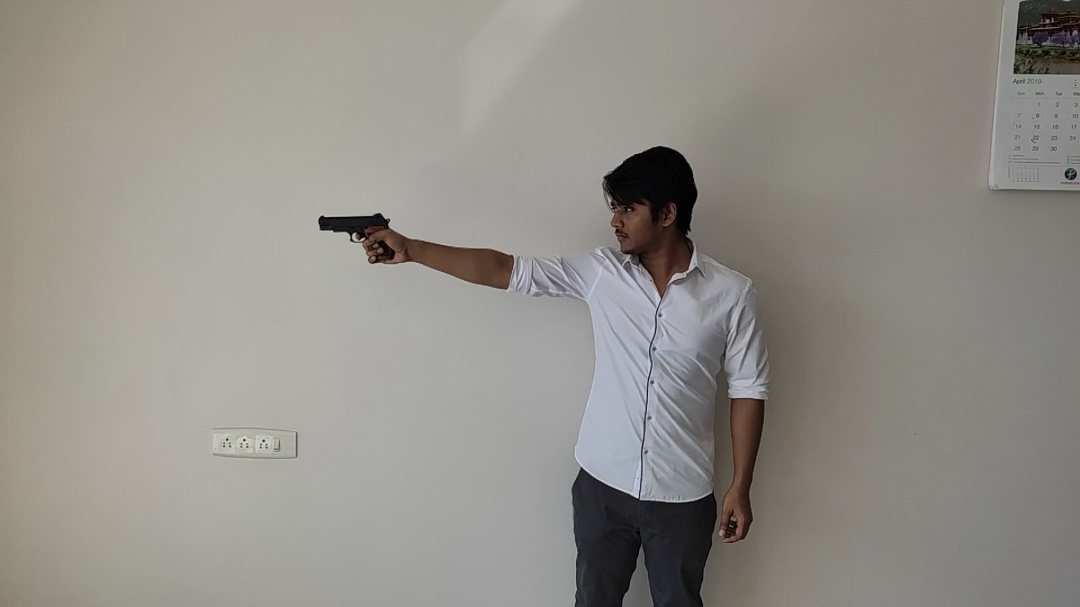gun: (318, 212, 394, 259)
